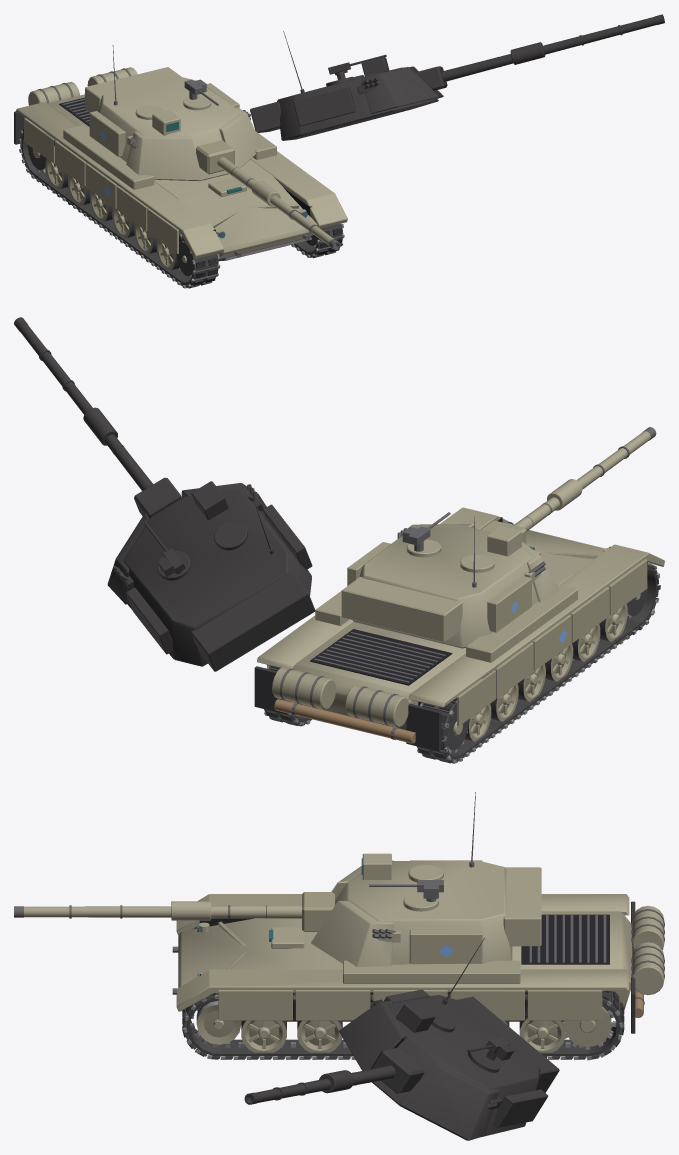
The model's file is tank__t_72_al_bashir.glb.
3 views of the same model, one above another, from view 1: azimuth 30°, elevation 25°; view 2: azimuth 150°, elevation 25°; view 3: azimuth 270°, elevation 25° (orthographic). The views are drawn at different scales.
Parts seen in each view (by area): view 1: Hull_Mesh, Wreck, Turret_Mesh, Track_L_Mesh, Gun_Mesh, Track_R_Mesh, Gunner_Sight_Mesh, Wheel_L0_Mesh, Wheel_L2_Mesh, Wheel_L3_Mesh, Wheel_L4_Mesh, Wheel_L1_Mesh (+1 smaller); view 2: Hull_Mesh, Wreck, Turret_Mesh, Track_L_Mesh, Gun_Mesh, Gunner_Sight_Mesh, Wheel_L2_Mesh, Wheel_L5_Mesh, Wheel_L3_Mesh, Wheel_L4_Mesh, Wheel_L1_Mesh; view 3: Hull_Mesh, Wreck, Turret_Mesh, Gun_Mesh, Track_R_Mesh, Wheel_R5_Mesh, Wheel_R4_Mesh, Wheel_R0_Mesh, Sprocket_R_Mesh, Idler_R_Mesh, Gunner_Sight_Mesh, Commander_MG_Mesh.
Boxes of the visible parts, x1=… form: Hull_Mesh: x1=14, y1=67, x2=347, y2=261; Wreck: x1=19, y1=14, x2=664, y2=288; Turret_Mesh: x1=85, y1=67, x2=261, y2=181; Track_L_Mesh: x1=18, y1=127, x2=220, y2=288; Gun_Mesh: x1=196, y1=140, x2=340, y2=250; Track_R_Mesh: x1=291, y1=224, x2=344, y2=258; Gunner_Sight_Mesh: x1=152, y1=110, x2=180, y2=135; Wheel_L0_Mesh: x1=45, y1=158, x2=68, y2=189; Wheel_L2_Mesh: x1=90, y1=191, x2=112, y2=221; Wheel_L3_Mesh: x1=112, y1=207, x2=135, y2=237; Wheel_L4_Mesh: x1=134, y1=223, x2=157, y2=254; Wheel_L1_Mesh: x1=68, y1=175, x2=90, y2=205; Hull_Mesh: x1=254, y1=507, x2=664, y2=751; Wreck: x1=14, y1=317, x2=660, y2=762; Turret_Mesh: x1=341, y1=524, x2=558, y2=648; Track_L_Mesh: x1=417, y1=562, x2=660, y2=763; Gun_Mesh: x1=482, y1=427, x2=656, y2=543; Gunner_Sight_Mesh: x1=487, y1=526, x2=521, y2=556; Wheel_L2_Mesh: x1=517, y1=664, x2=545, y2=701; Wheel_L5_Mesh: x1=599, y1=604, x2=627, y2=641; Wheel_L3_Mesh: x1=545, y1=643, x2=573, y2=681; Wheel_L4_Mesh: x1=572, y1=624, x2=600, y2=661; Wheel_L1_Mesh: x1=490, y1=684, x2=518, y2=721; Hull_Mesh: x1=172, y1=894, x2=664, y2=1033; Wreck: x1=182, y1=938, x2=624, y2=1140; Turret_Mesh: x1=311, y1=860, x2=541, y2=966; Gun_Mesh: x1=14, y1=892, x2=334, y2=931; Track_R_Mesh: x1=182, y1=991, x2=624, y2=1060; Wheel_R5_Mesh: x1=241, y1=1020, x2=286, y2=1052; Wheel_R4_Mesh: x1=297, y1=1020, x2=342, y2=1052; Wheel_R0_Mesh: x1=519, y1=1007, x2=565, y2=1052; Sprocket_R_Mesh: x1=562, y1=1004, x2=615, y2=1049; Idler_R_Mesh: x1=196, y1=1000, x2=241, y2=1044; Gunner_Sight_Mesh: x1=361, y1=853, x2=391, y2=879; Commander_MG_Mesh: x1=369, y1=880, x2=443, y2=902.
Size of what is drawn, in the model's own units: 11.46 by 3.46 by 10.27.
